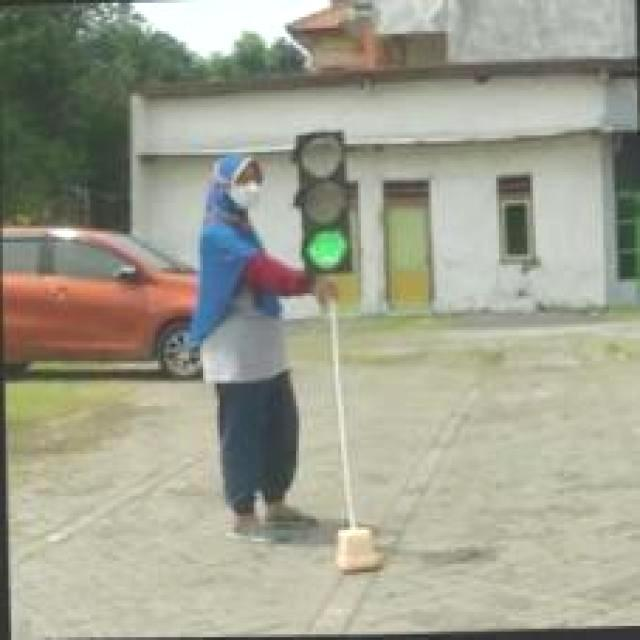Green: (293, 131, 350, 275)
